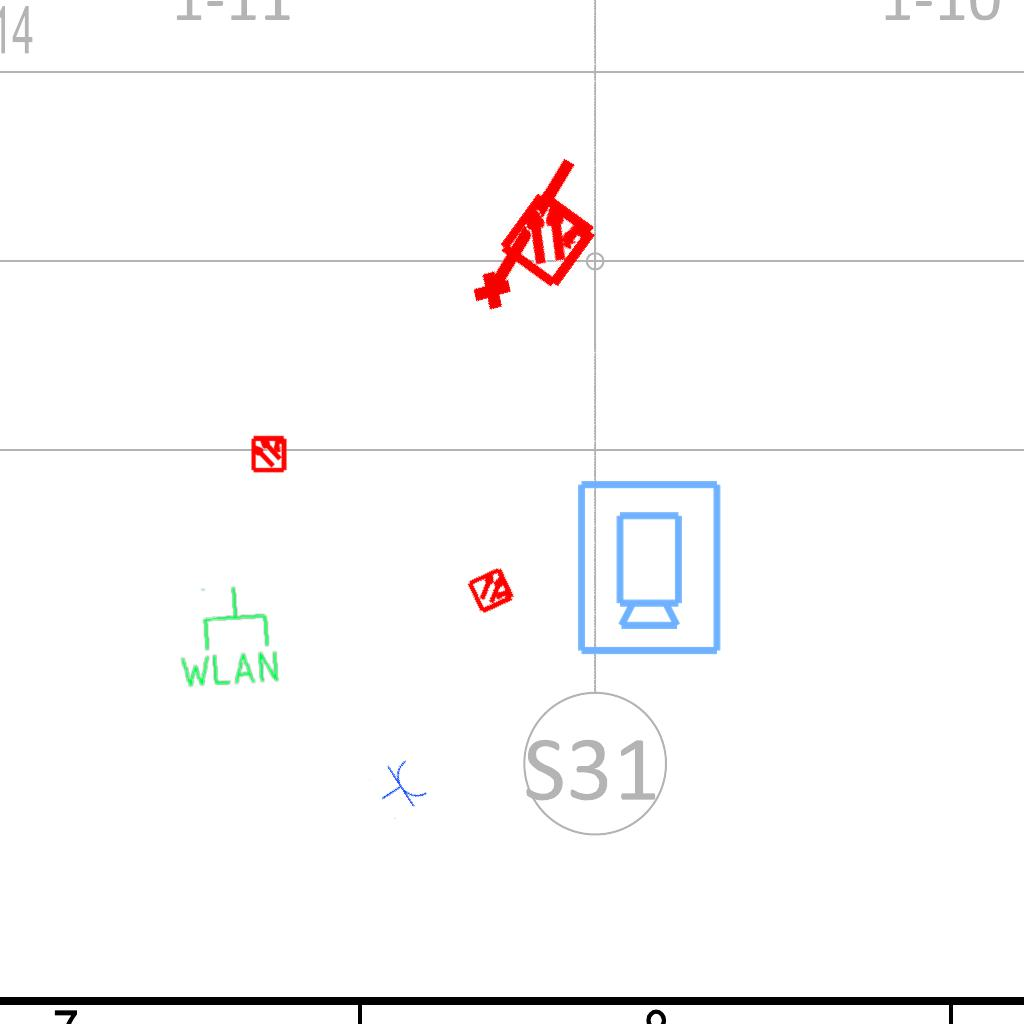ASR_Ansaugoeffnung: (459, 143, 591, 319)
KFO_Kamera_mit_Festobjektiv: (571, 476, 725, 658)
OT_Multisensormelder_(Kombination_RMO_WMD): (470, 158, 629, 317), (454, 552, 530, 628), (241, 425, 297, 481)
Schukosteckdose_einfach: (368, 754, 432, 821)
WLAN: (171, 580, 283, 693)
